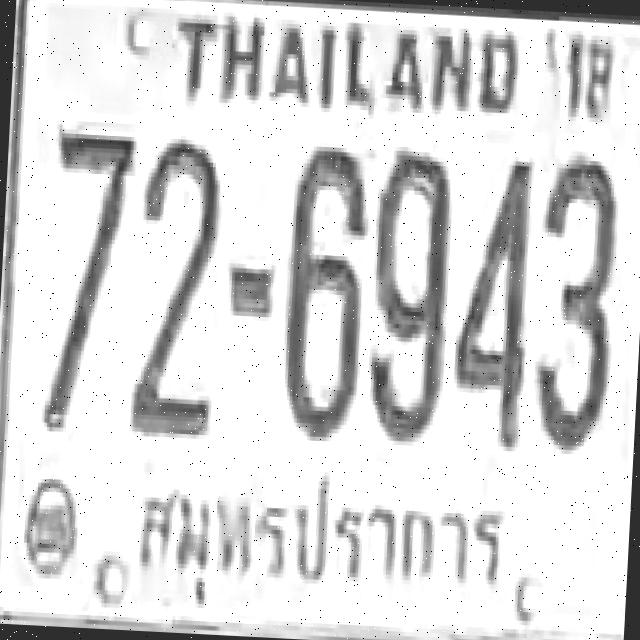2: (128, 136, 224, 438), (130, 133, 222, 414)
3: (530, 152, 620, 450)
4: (449, 154, 536, 448)
6: (280, 143, 370, 441)
7: (40, 129, 136, 435)
9: (364, 145, 454, 443)
SamutPrakan: (125, 458, 516, 630)
